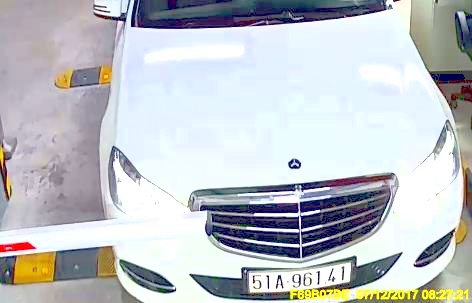plate: (244, 260, 357, 291)
